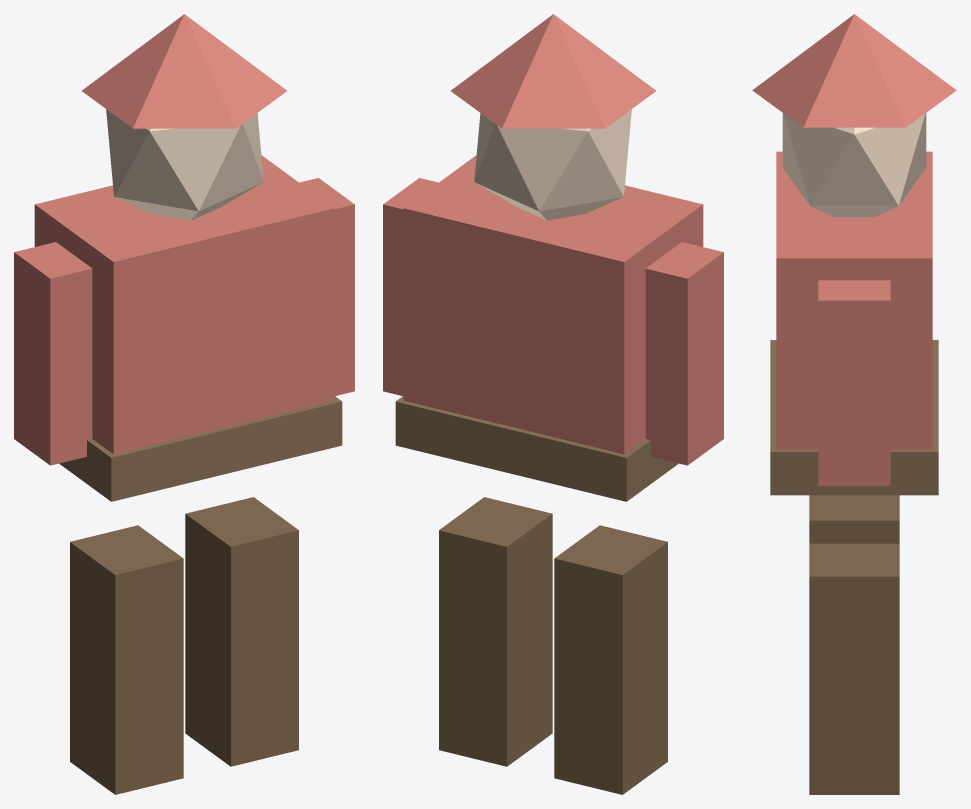
File: settler.glb
The picture shows the model from 3 angles, left to right: view 1: azimuth 30°, elevation 25°; view 2: azimuth 150°, elevation 25°; view 3: azimuth 270°, elevation 25°; orthographic projection.
Parts seen in each view (by area): view 1: SettlerLegL; view 2: SettlerLegL; view 3: SettlerLegL.
Part boxes in pixels (x1,y1,x2,y2): SettlerLegL: (14,14,354,794); SettlerLegL: (383,14,723,794); SettlerLegL: (752,14,956,794).
Bounding box in the file's own units: 0.58 × 1.35 × 0.34.
